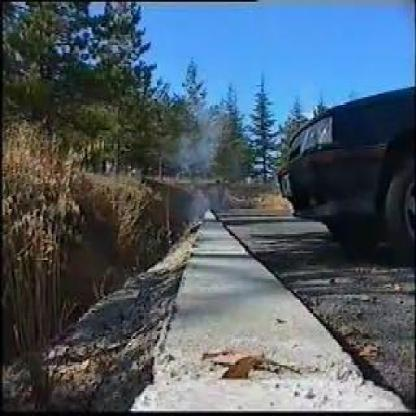-: (183, 192, 211, 226)
